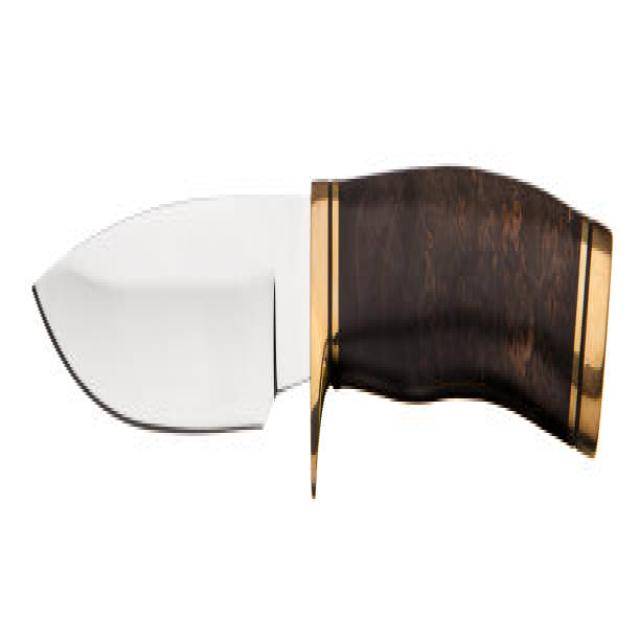knife: (29, 162, 620, 529)
